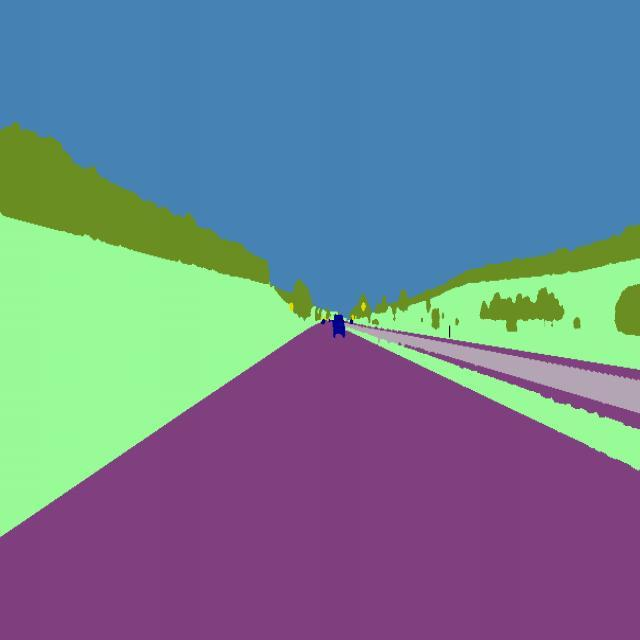safe: (328, 308, 350, 344)
